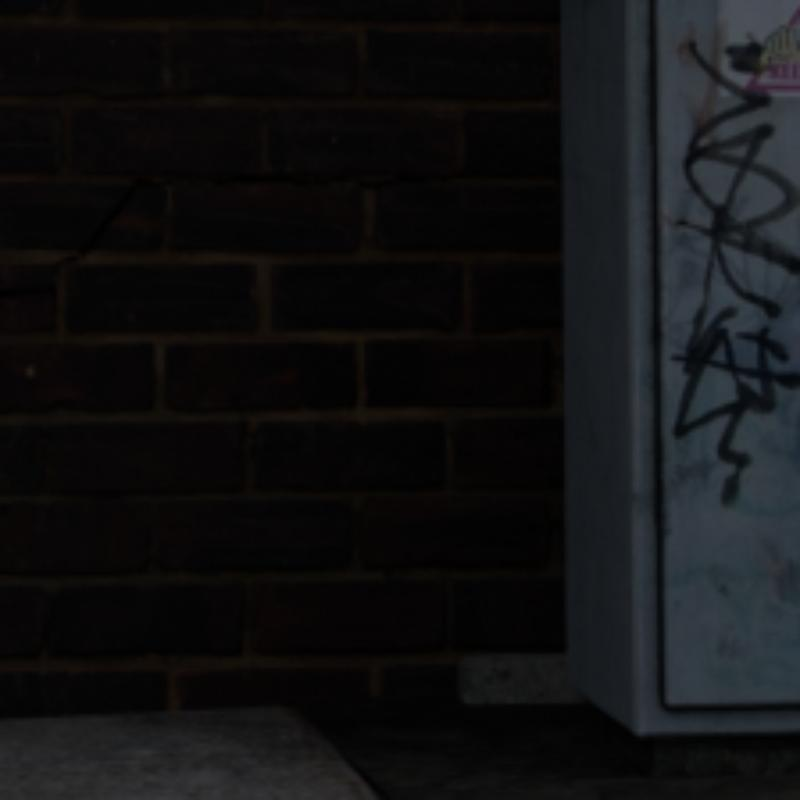pothole: (77, 179, 183, 254), (223, 175, 320, 186), (359, 175, 439, 186), (0, 279, 57, 293), (464, 171, 561, 179), (439, 171, 464, 179), (320, 179, 359, 182), (183, 179, 223, 181), (57, 258, 69, 264)
